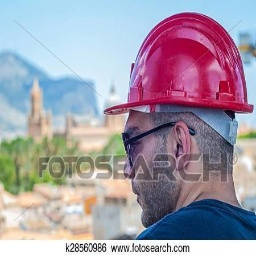helmet: (95, 11, 256, 234), (101, 13, 256, 117)
